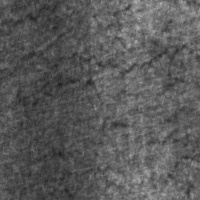crazing: (9, 39, 199, 107), (107, 104, 199, 197)
